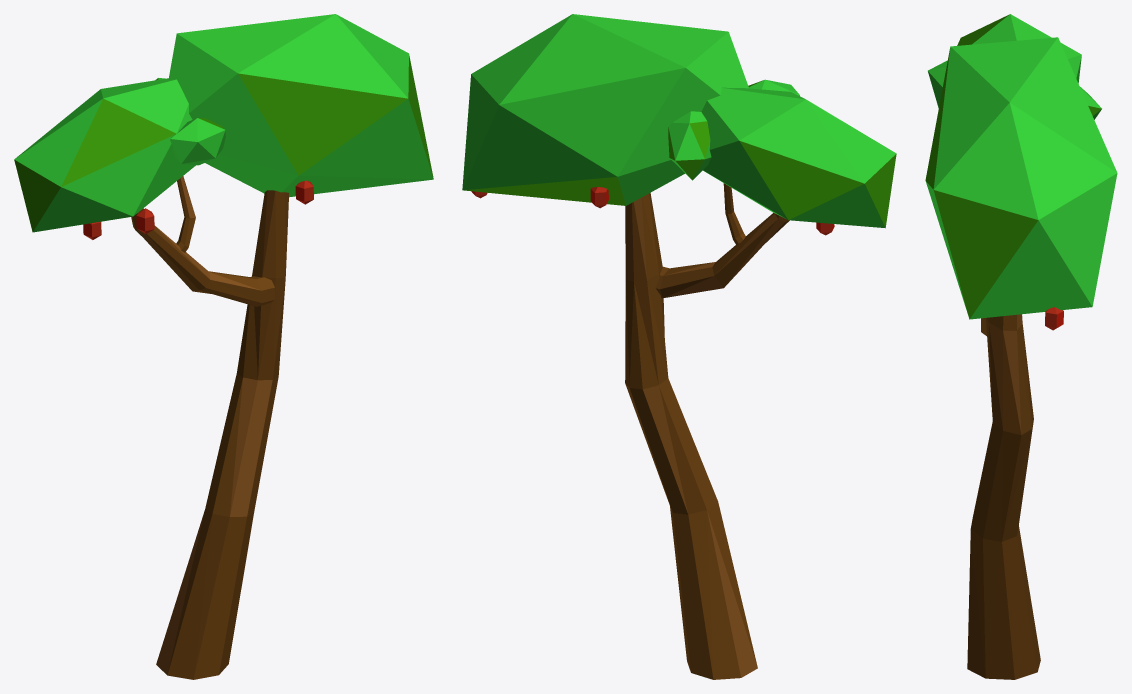
The model's file is LowPolyTree01-Level01.fbx.
3 renders of one model, left to right at view 1: azimuth 30°, elevation 25°; view 2: azimuth 150°, elevation 25°; view 3: azimuth 270°, elevation 25°, orthographic. The views are drawn at different scales.
Parts seen in each view (by area): view 1: Sphere; view 2: Sphere; view 3: Sphere.
Part boxes in pixels (<box>): Sphere: <box>14,14,433,679</box>; Sphere: <box>462,14,896,679</box>; Sphere: <box>925,14,1117,679</box>.
Size of the model in its own units: 411 by 611 by 167.
